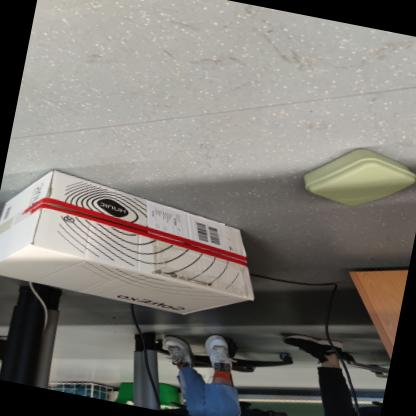box: (0, 155, 281, 334), (281, 119, 416, 235)
